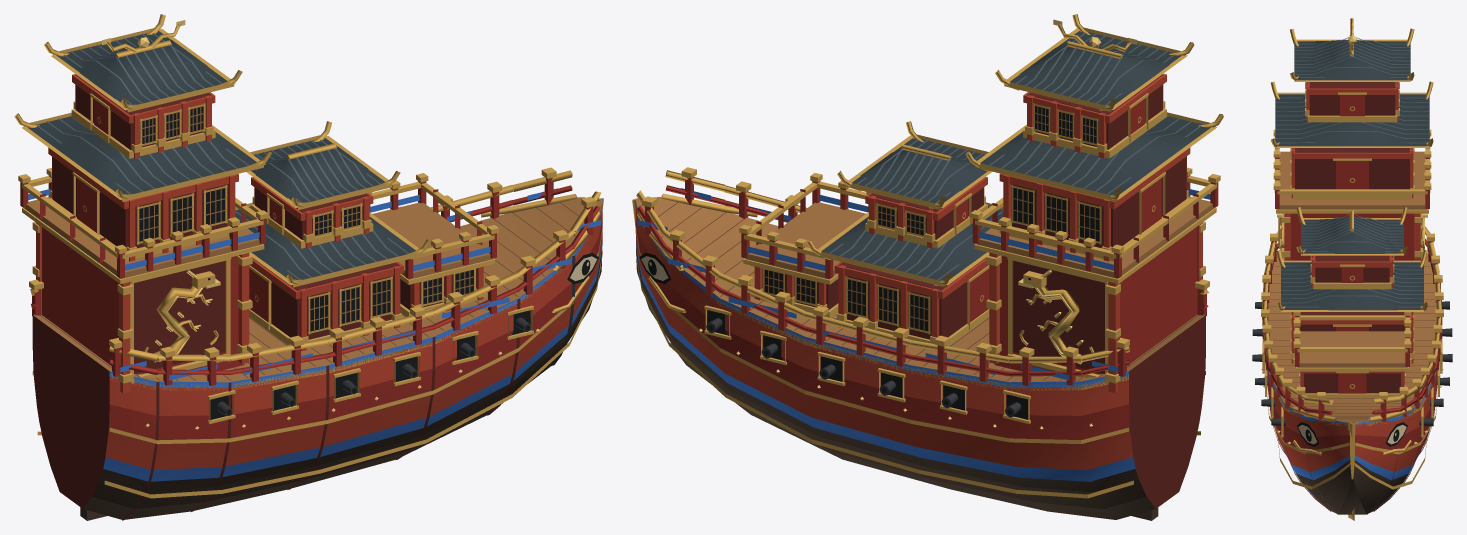
3 renders of one model, left to right at view 1: azimuth 30°, elevation 25°; view 2: azimuth 150°, elevation 25°; view 3: azimuth 270°, elevation 25°, orthographic. The views are drawn at different scales.
Parts seen in each view (by area): view 1: hull-band-1-4, stern-transom, main-deck, hull-band-1-6, hull-band-1-5, stern-castle-base, stern-grand-roof-slate, dragon-panel-inset-1, stern-crown-roof-slate, hull-band-1-3, mid-pavilion-roof-slate, hull-band-1-1 (+27 smaller); view 2: hull-band--1-4, stern-transom, hull-band--1-6, main-deck, hull-band--1-5, stern-castle-base, stern-grand-roof-slate, dragon-panel-inset--1, stern-crown-roof-slate, hull-band--1-3, hull-band--1-1, mid-pavilion-roof-slate (+27 smaller); view 3: stern-grand-roof-slate, main-deck, mid-pavilion-roof-slate, stern-crown-roof-slate, mid-upper-roof-slate, fore-cabin-terrace-floor, stern-middle-hall-body, stern-grand-balcony-floor, stern-upper-hall-body, stern-castle-base, fore-cabin-body, mid-upper-lantern-body (+39 smaller).
Part boxes in pixels (left/top/right/bottom): hull-band-1-4: left=105, top=231, right=602, bottom=470; stern-transom: left=32, top=315, right=109, bottom=508; main-deck: left=33, top=197, right=602, bottom=382; hull-band-1-6: left=109, top=204, right=602, bottom=415; hull-band-1-5: left=109, top=217, right=602, bottom=440; stern-castle-base: left=42, top=227, right=244, bottom=374; stern-grand-roof-slate: left=27, top=116, right=256, bottom=194; dragon-panel-inset-1: left=134, top=261, right=225, bottom=373; stern-crown-roof-slate: left=57, top=31, right=227, bottom=110; hull-band-1-3: left=103, top=242, right=602, bottom=481; mid-pavilion-roof-slate: left=235, top=206, right=415, bottom=285; hull-band-1-1: left=92, top=257, right=601, bottom=508; hull-band--1-4: left=635, top=230, right=1133, bottom=470; stern-transom: left=1129, top=315, right=1205, bottom=508; hull-band--1-6: left=635, top=204, right=1128, bottom=415; main-deck: left=636, top=197, right=1205, bottom=382; hull-band--1-5: left=635, top=216, right=1129, bottom=439; stern-castle-base: left=994, top=227, right=1196, bottom=374; stern-grand-roof-slate: left=981, top=116, right=1209, bottom=199; dragon-panel-inset--1: left=1013, top=261, right=1104, bottom=373; stern-crown-roof-slate: left=1010, top=31, right=1180, bottom=109; hull-band--1-3: left=636, top=243, right=1135, bottom=481; hull-band--1-1: left=636, top=258, right=1146, bottom=508; mid-pavilion-roof-slate: left=821, top=206, right=1003, bottom=285; stern-grand-roof-slate: left=1275, top=94, right=1429, bottom=146; main-deck: left=1268, top=249, right=1436, bottom=423; mid-pavilion-roof-slate: left=1281, top=262, right=1423, bottom=310; stern-crown-roof-slate: left=1294, top=40, right=1410, bottom=80; mid-upper-roof-slate: left=1301, top=217, right=1403, bottom=253; fore-cabin-terrace-floor: left=1297, top=331, right=1407, bottom=367; stern-middle-hall-body: left=1295, top=148, right=1409, bottom=189; stern-grand-balcony-floor: left=1277, top=151, right=1427, bottom=209; stern-upper-hall-body: left=1309, top=82, right=1395, bottom=115; stern-castle-base: left=1291, top=213, right=1413, bottom=260; fore-cabin-body: left=1304, top=373, right=1400, bottom=393; mid-upper-lantern-body: left=1315, top=255, right=1389, bottom=282.
Bounding box in the file's own units: 2.55 × 2.16 × 1.05.
